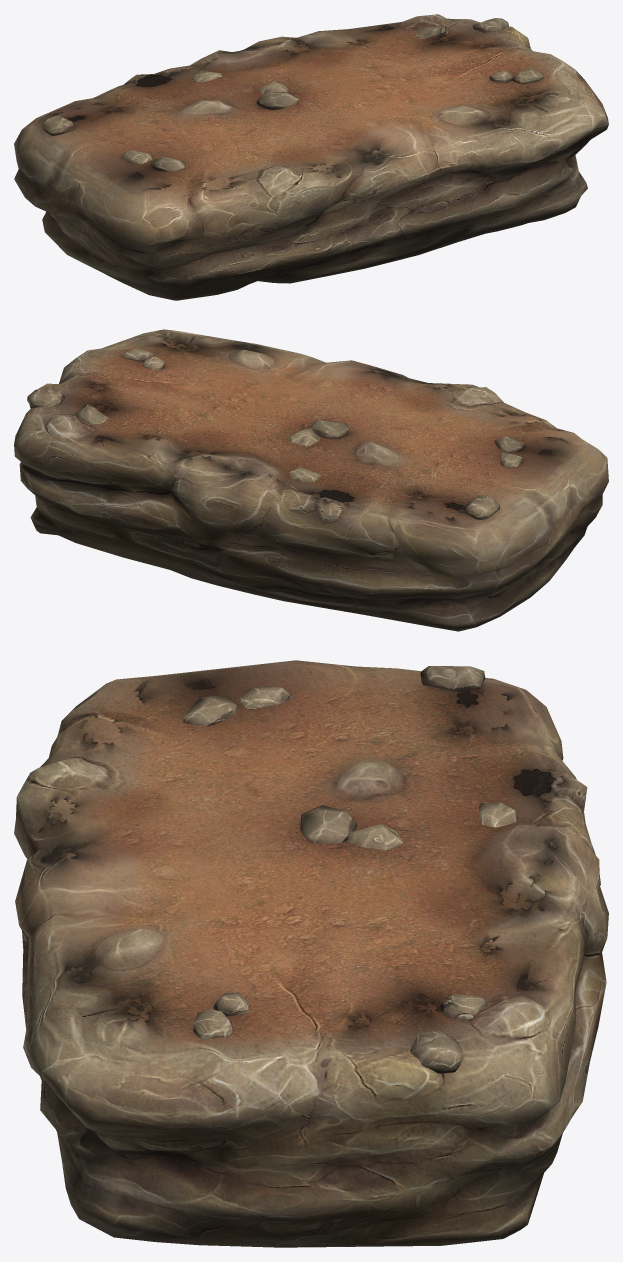
The model's file is Tankfloor.fbx.
3 views of the same model, one above another, from view 1: azimuth 30°, elevation 25°; view 2: azimuth 150°, elevation 25°; view 3: azimuth 270°, elevation 25° (orthographic). The views are drawn at different scales.
Parts seen in each view (by area): view 1: node_id183; view 2: node_id183; view 3: node_id183.
Part boxes in pixels (x1,y1,x2,y2): node_id183: [14, 14, 608, 300]; node_id183: [14, 329, 608, 631]; node_id183: [14, 660, 608, 1247].
Bounding box in the file's own units: 1.16 × 0.2745 × 0.6661.
1 material, 1 textured.
